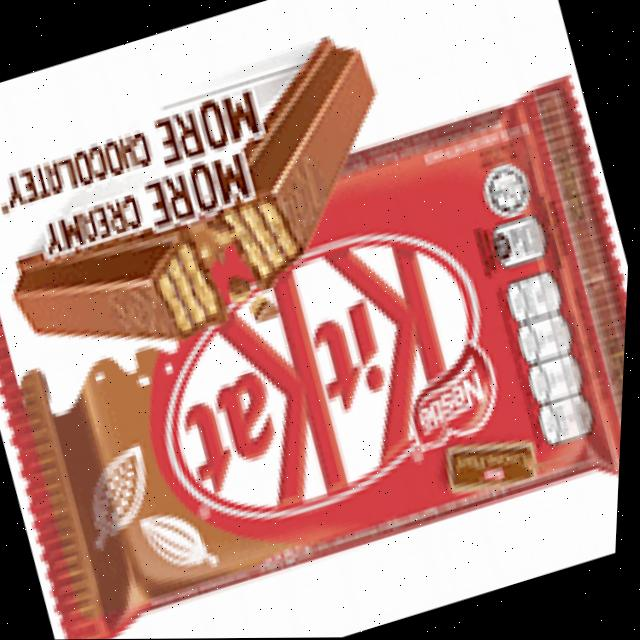kitkat: (0, 62, 638, 640)
